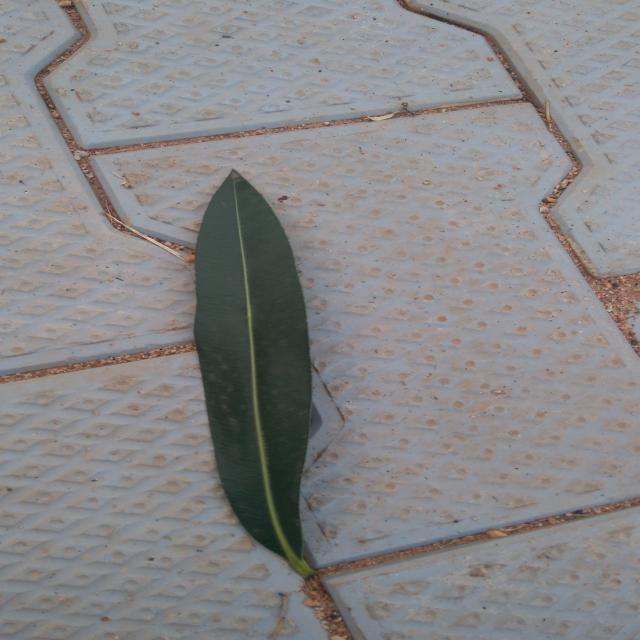ganigale: (193, 171, 329, 579)
